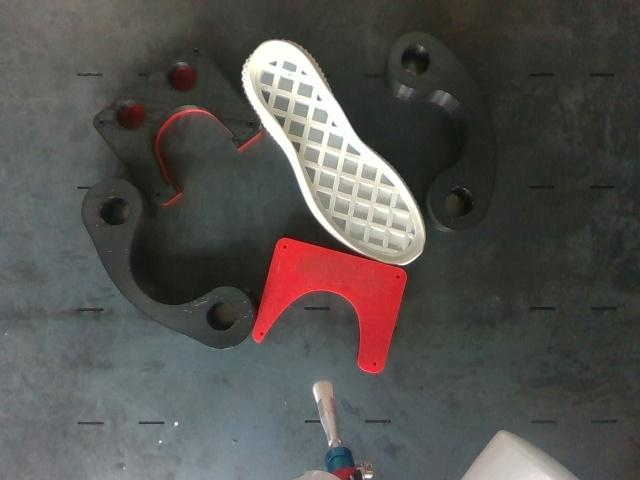shoes: (248, 40, 424, 264)
